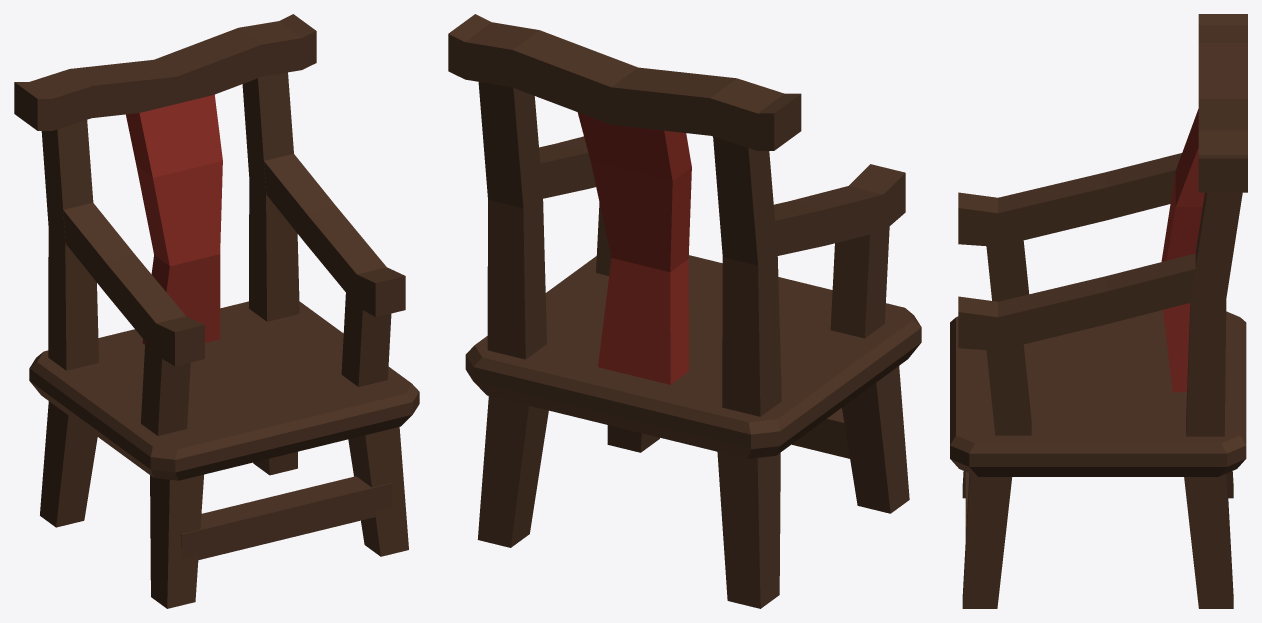
The model's file is fn_chair.glb.
The picture shows the model from 3 angles, left to right: view 1: azimuth 30°, elevation 25°; view 2: azimuth 150°, elevation 25°; view 3: azimuth 270°, elevation 25°; orthographic projection. The views are drawn at different scales.
Visible parts, largest first — view 1: fn_chair__wood_dark, fn_chair__wood_red; view 2: fn_chair__wood_dark, fn_chair__wood_red; view 3: fn_chair__wood_dark, fn_chair__wood_red.
Part boxes in pixels (x1=…): fn_chair__wood_dark: x1=14, y1=14, x2=419, y2=608; fn_chair__wood_red: x1=126, y1=94, x2=222, y2=344; fn_chair__wood_dark: x1=448, y1=14, x2=921, y2=608; fn_chair__wood_red: x1=577, y1=112, x2=691, y2=384; fn_chair__wood_dark: x1=950, y1=14, x2=1247, y2=608; fn_chair__wood_red: x1=1161, y1=109, x2=1204, y2=392.
Size of the model in its own units: 8.2 by 12.17 by 7.14.
